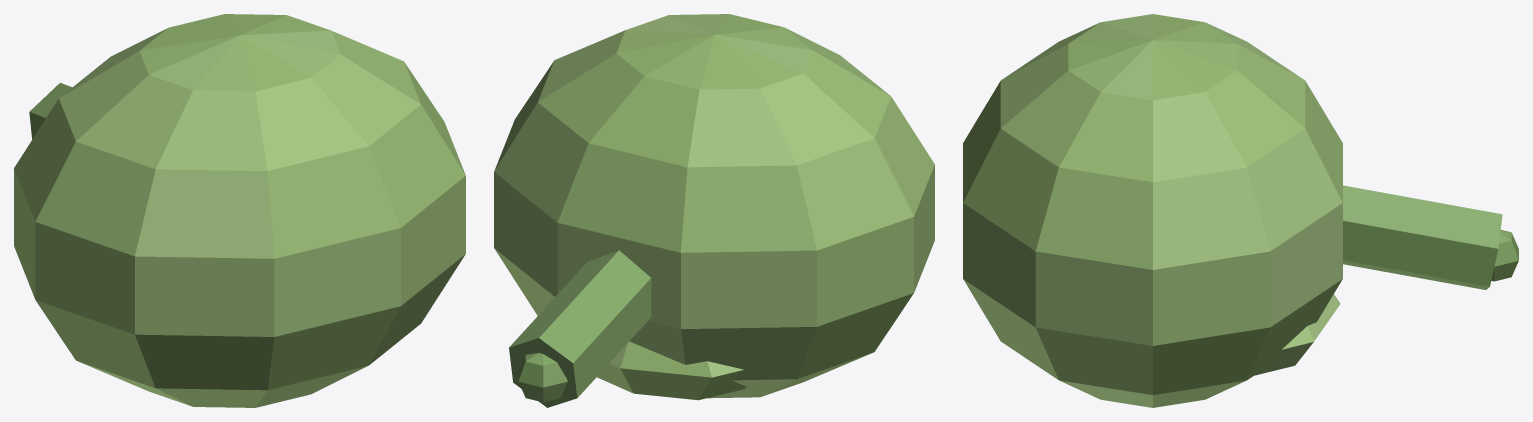
The model's file is head.glb.
3 views of the same model, side by side, from view 1: azimuth 30°, elevation 25°; view 2: azimuth 150°, elevation 25°; view 3: azimuth 270°, elevation 25° (orthographic). The views are drawn at different scales.
Visible parts, largest first — view 1: head2; view 2: head2; view 3: head2.
Part boxes in pixels (x1=…): head2: x1=14, y1=14, x2=465, y2=407; head2: x1=494, y1=14, x2=934, y2=407; head2: x1=963, y1=14, x2=1518, y2=407.
Size of the model in its own units: 0.8072 by 0.6624 by 0.9771.
